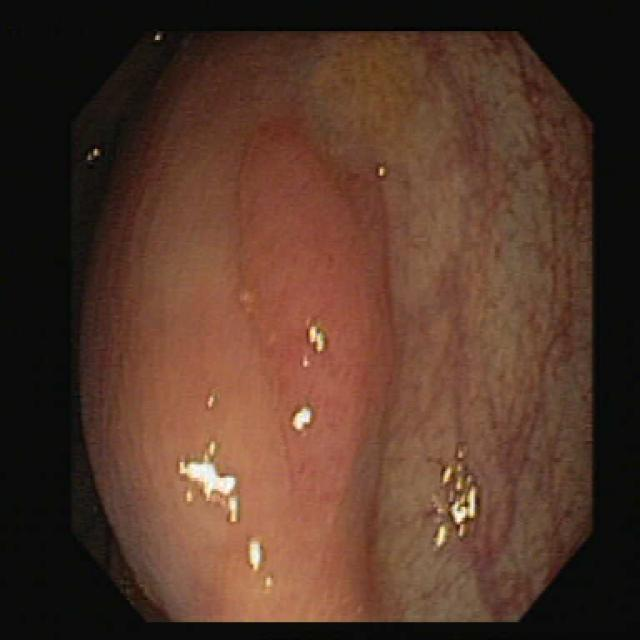tumor: (237, 118, 375, 567)
